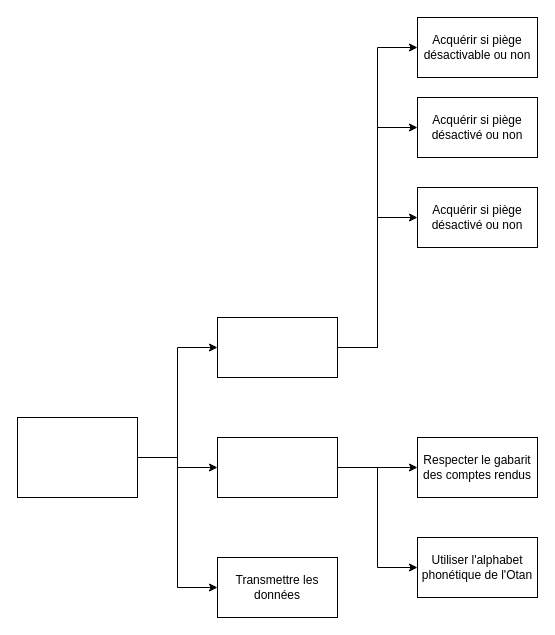
Some shapes in this 555 by 635 pixel diagram are drawn without their labels. Each missing label, with the centre of its shape:
Acquérir les données: point (277, 347)
F2 : Réaliser des comptes rendus: point (77, 457)
Formaliser les données: point (277, 467)
